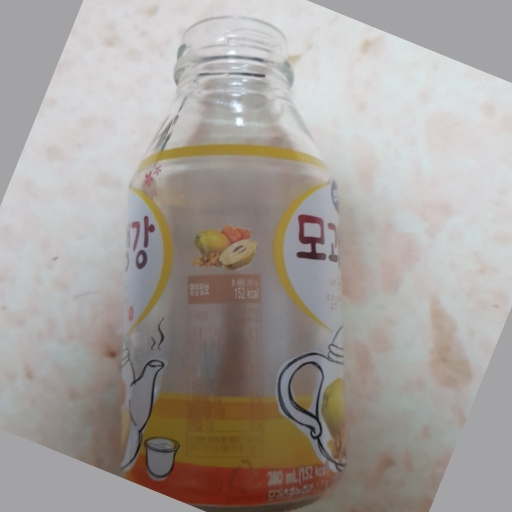Glass_4: (123, 11, 350, 510)
